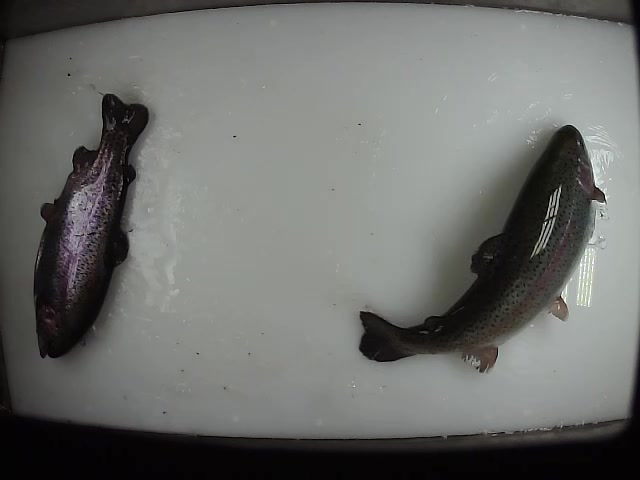Fish: (357, 124, 608, 373), (34, 93, 148, 358)
